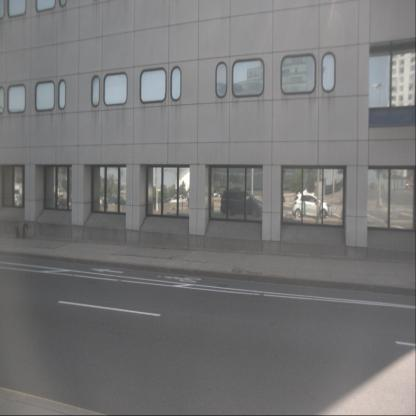human-pedestrian-adult: (186, 196, 190, 212), (153, 194, 156, 212)
vehicle-car: (220, 189, 264, 218), (292, 192, 328, 219), (106, 196, 127, 209), (53, 195, 70, 209), (170, 194, 186, 206)
